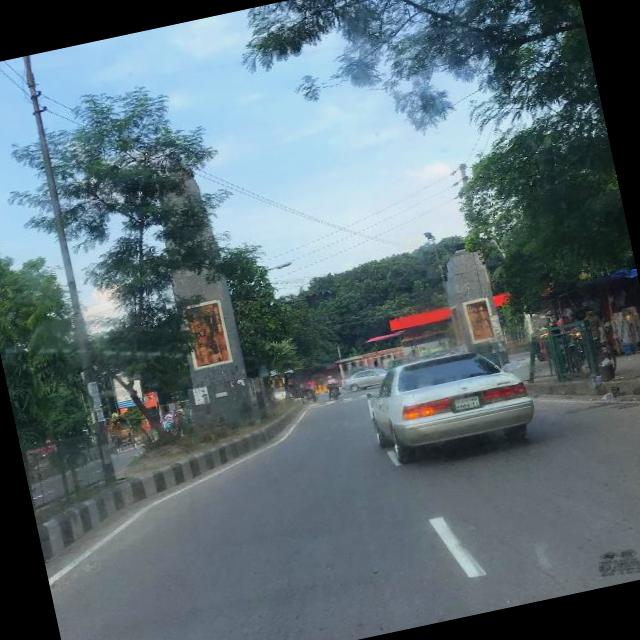car: (362, 338, 541, 470)
motorcycle: (106, 413, 140, 454), (327, 372, 342, 400), (164, 417, 180, 433)
